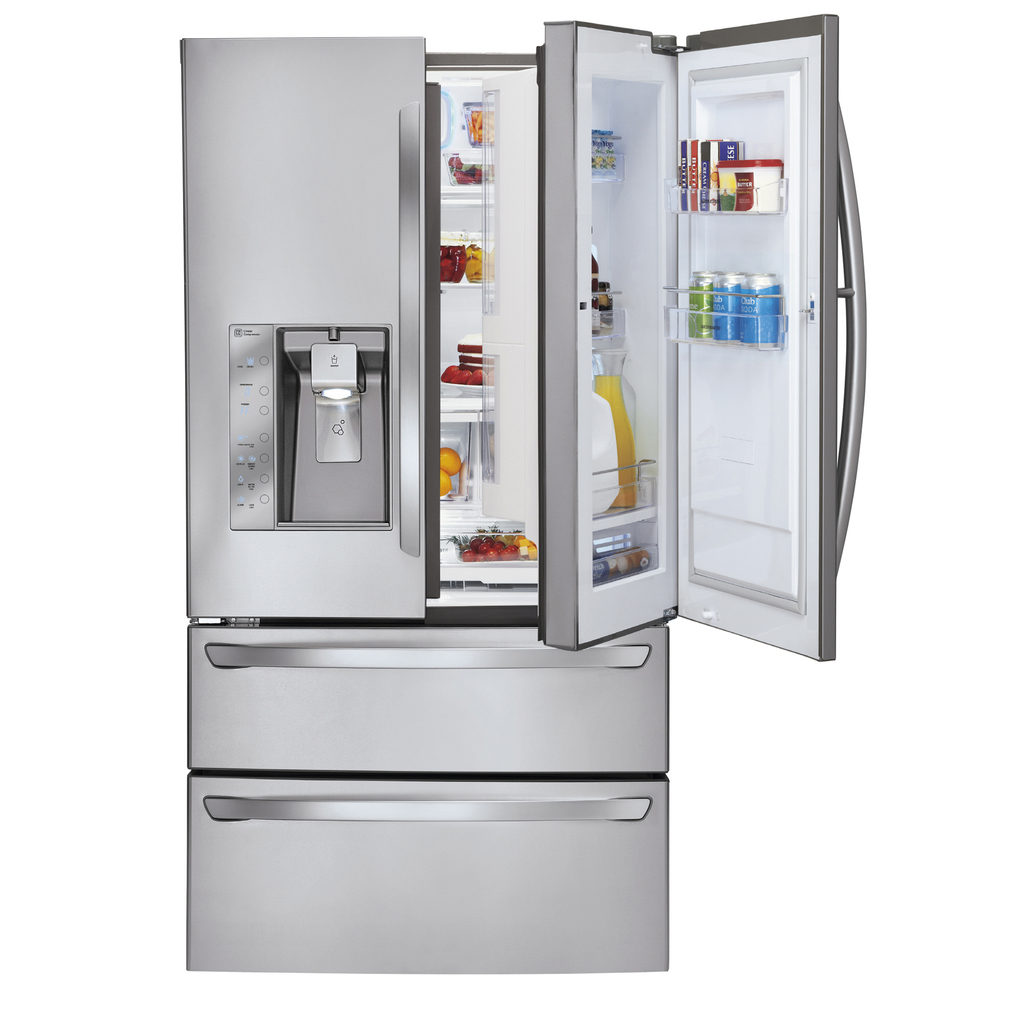handle: (204, 782, 651, 831), (206, 636, 651, 680), (827, 91, 870, 542), (390, 101, 426, 553)
refrigerator door: (186, 50, 422, 612), (681, 43, 841, 653), (182, 774, 658, 966), (556, 24, 681, 636), (182, 620, 662, 772)
